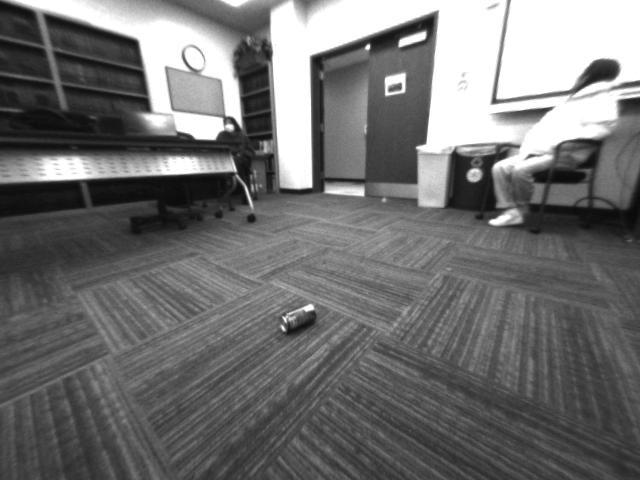can: (271, 302, 331, 339)
